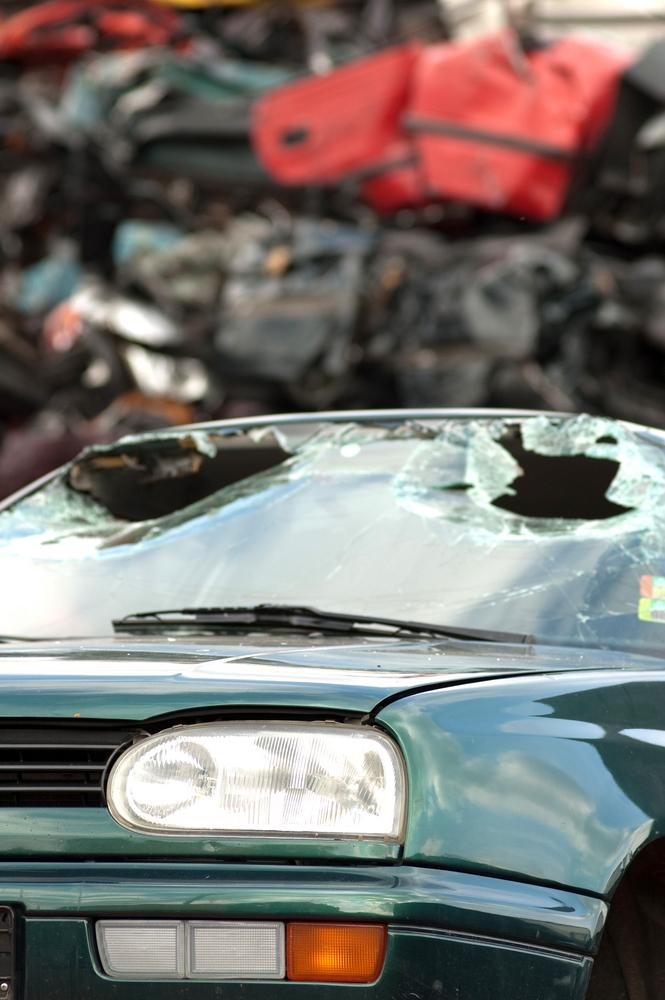glass shatter: (0, 416, 665, 658)
